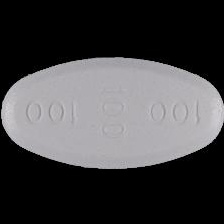42291-836: (0, 0, 224, 224)
